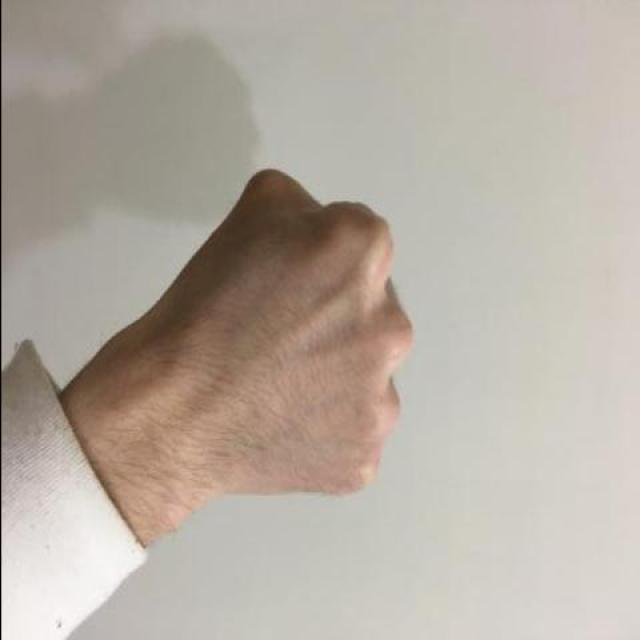Closed Hand: (132, 167, 432, 502)
